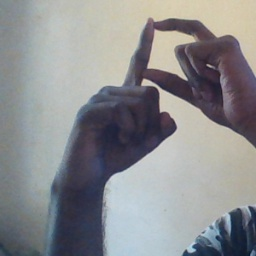D: (101, 11, 241, 127)
